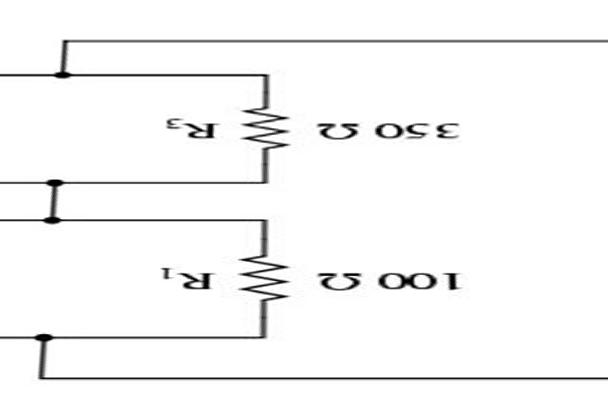resistor: (237, 226, 294, 321), (233, 86, 296, 158)
